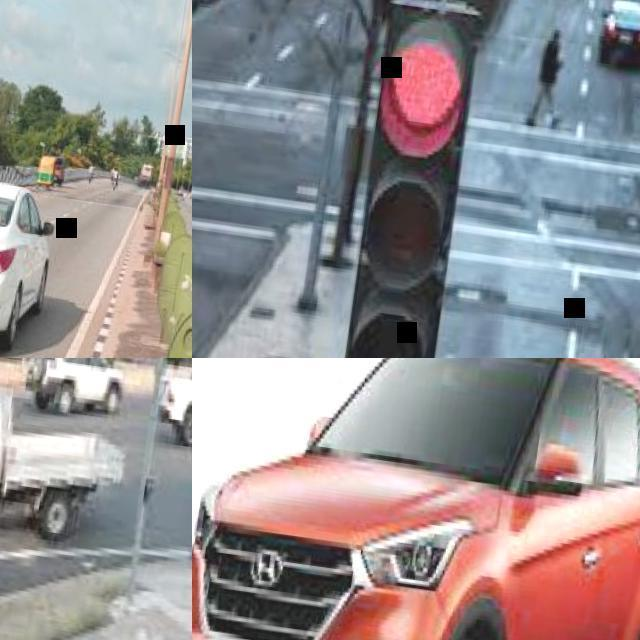car: (146, 0, 630, 639), (1, 186, 50, 355)
